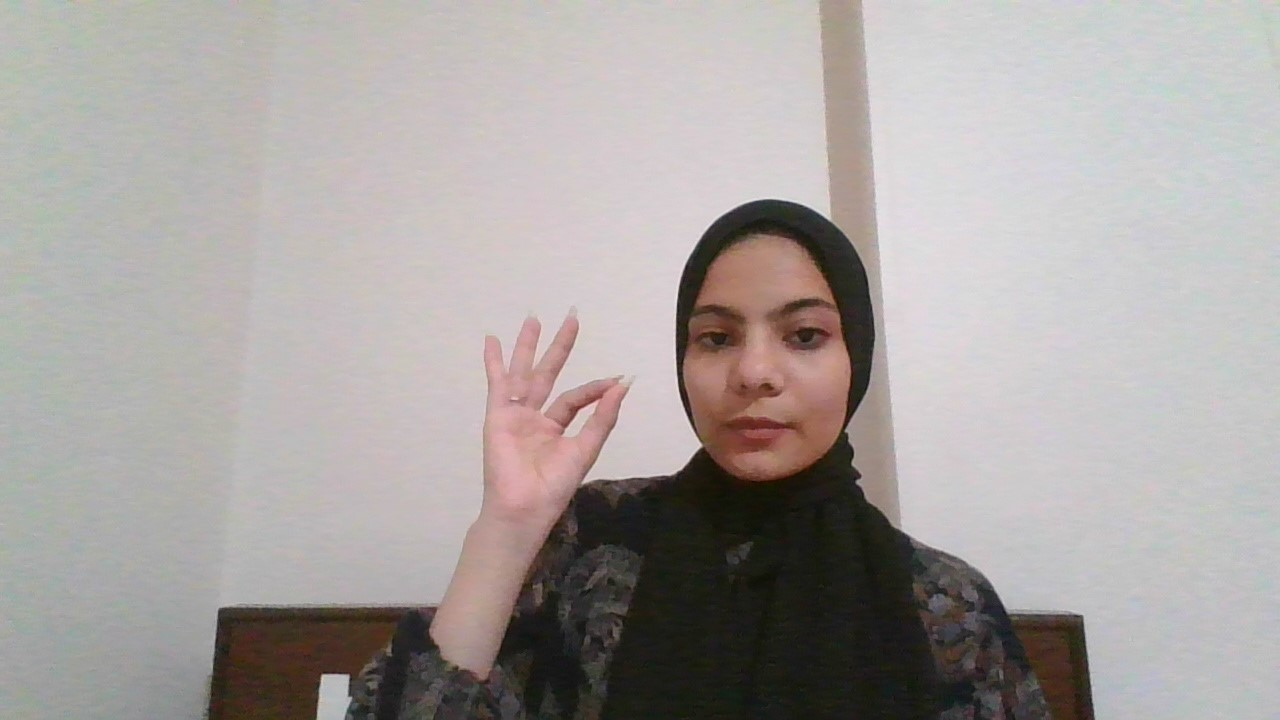okay: (455, 297, 639, 536)
